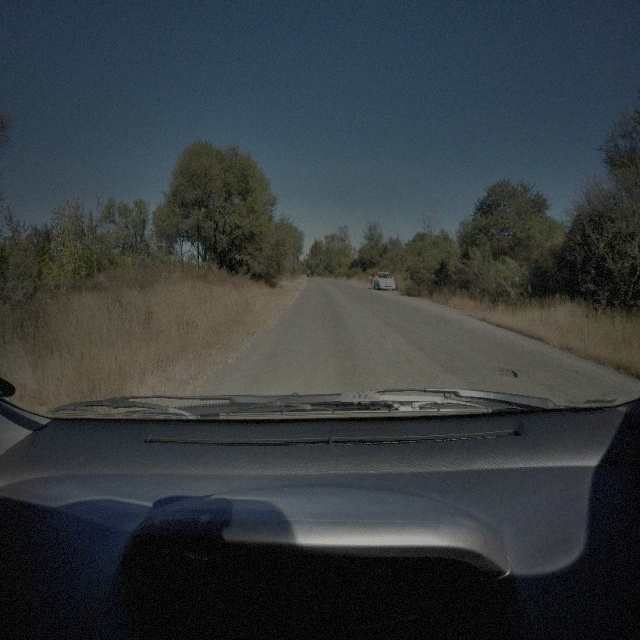pothole: (493, 363, 518, 379)
